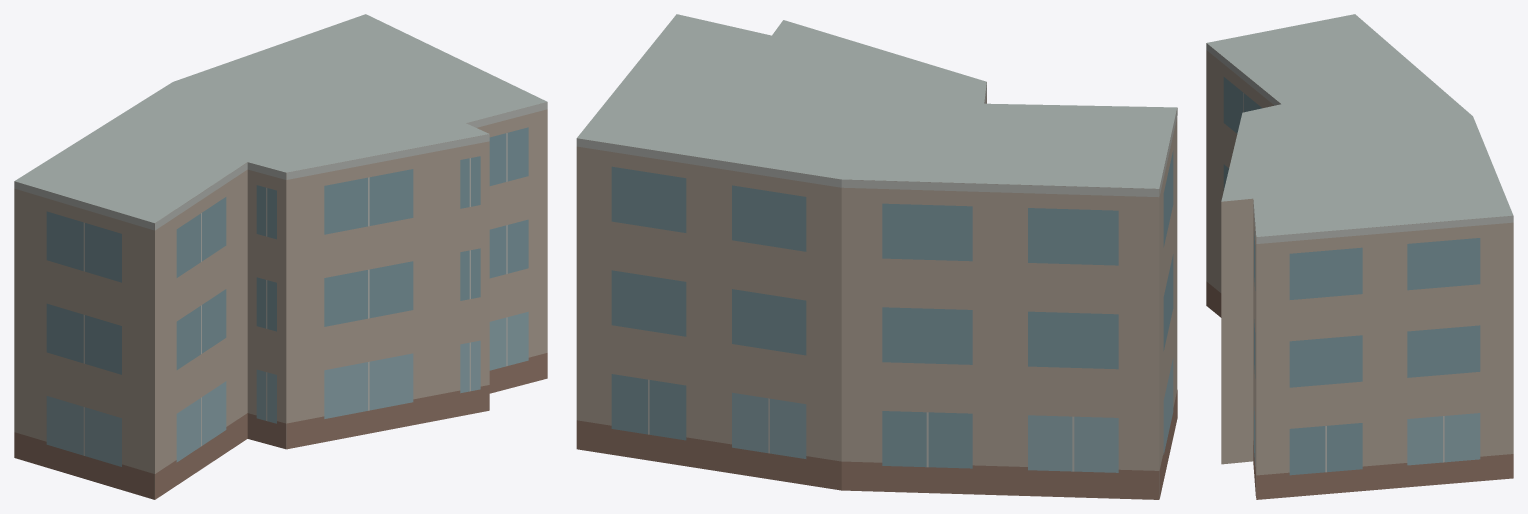
The model's file is survey-upis-32934763.glb.
3 renders of one model, left to right at view 1: azimuth 30°, elevation 25°; view 2: azimuth 150°, elevation 25°; view 3: azimuth 270°, elevation 25°, orthographic. The views are drawn at different scales.
Parts seen in each view (by area): view 1: survey-upis-32934763.tmp; view 2: survey-upis-32934763.tmp; view 3: survey-upis-32934763.tmp.
Boxes of the visible parts, x1,y1,x2,y2 form: survey-upis-32934763.tmp: [14, 14, 547, 499]; survey-upis-32934763.tmp: [576, 14, 1177, 499]; survey-upis-32934763.tmp: [1206, 14, 1513, 499].
Bounding box in the file's own units: 16.68 × 9.15 × 9.7.
